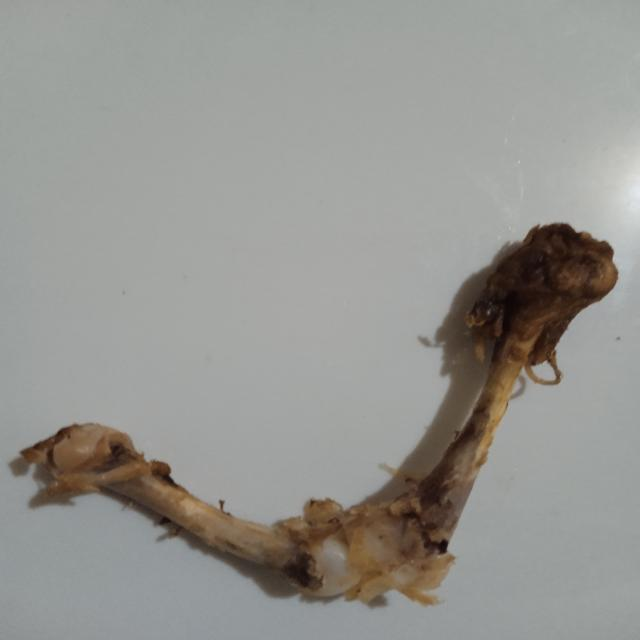bone: (0, 210, 632, 621)
